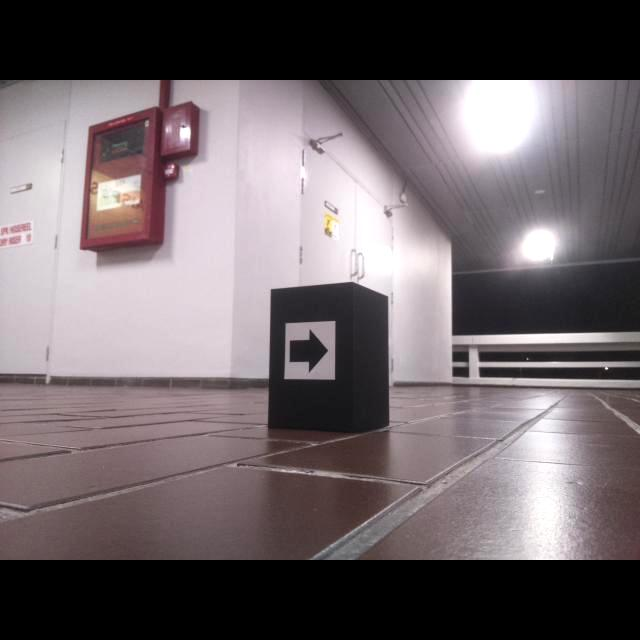RIGHT: (289, 330, 328, 373)
